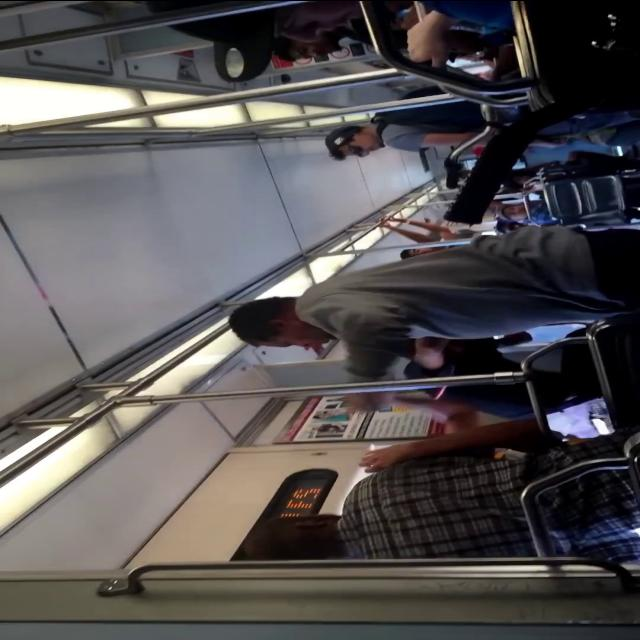NonViolence: (326, 90, 482, 162)
Violence: (227, 232, 640, 414)
